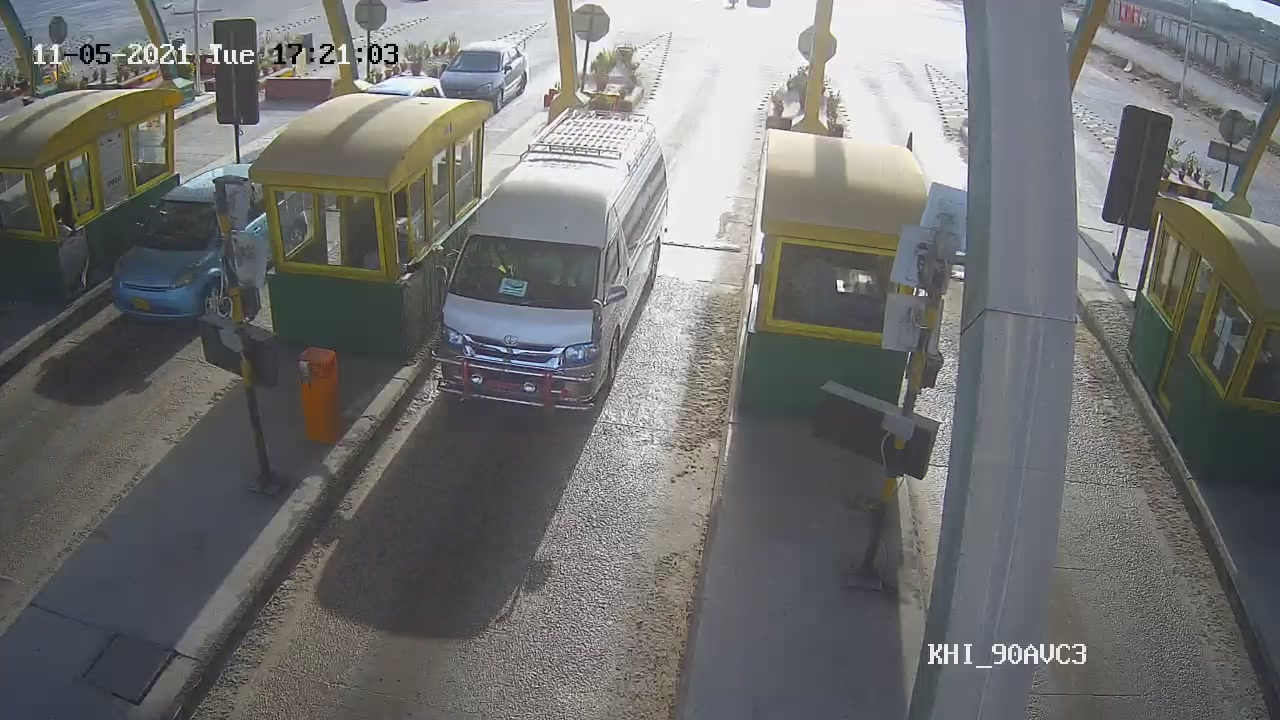F2: (428, 113, 677, 414)
